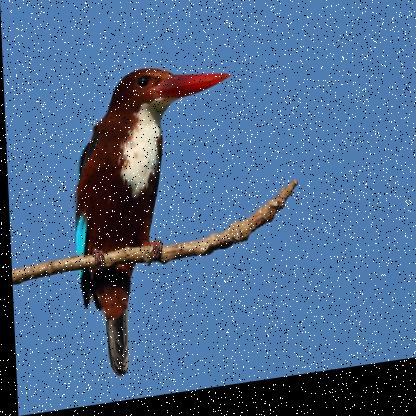Burung: (67, 61, 240, 383)
